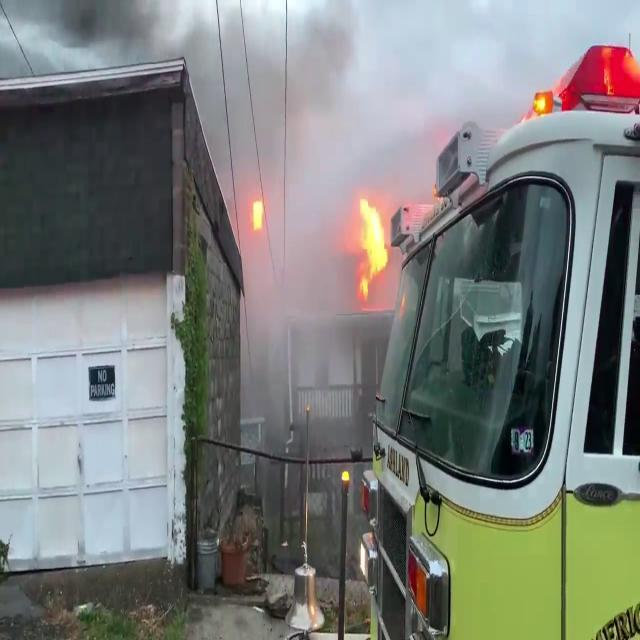Fire: (352, 188, 392, 300)
